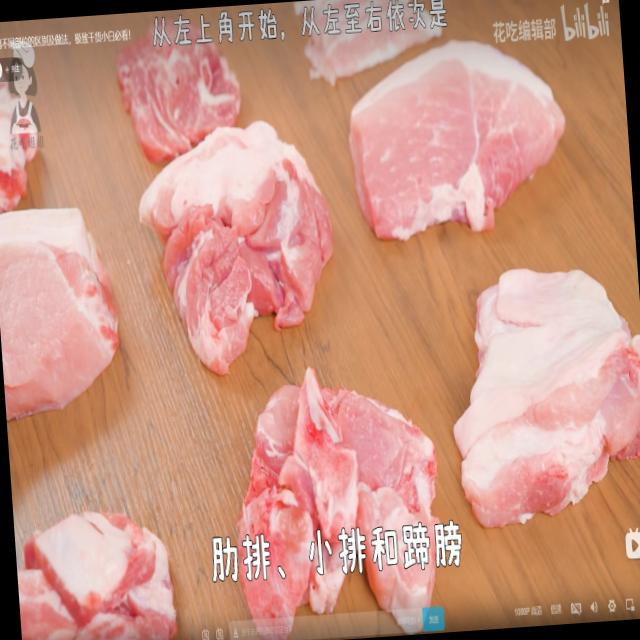pork: (139, 143, 354, 388), (464, 247, 640, 524), (244, 382, 443, 610), (351, 56, 564, 245), (0, 205, 126, 426), (19, 512, 183, 638), (114, 36, 240, 150), (0, 44, 7, 209)
